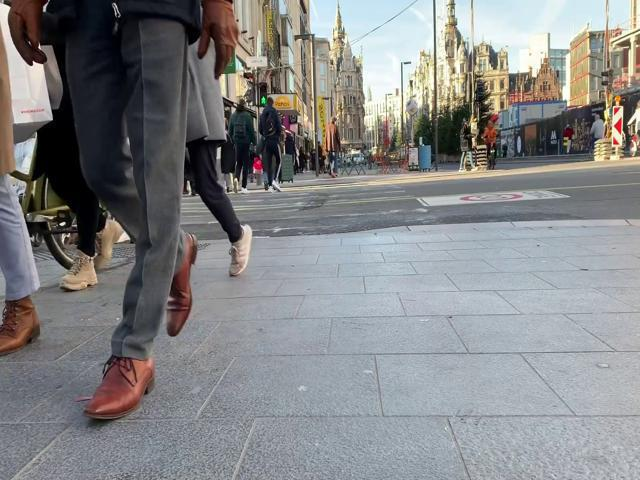shoe: (84, 358, 154, 419), (167, 231, 197, 336), (1, 296, 40, 355), (60, 250, 98, 291), (229, 224, 252, 276)
